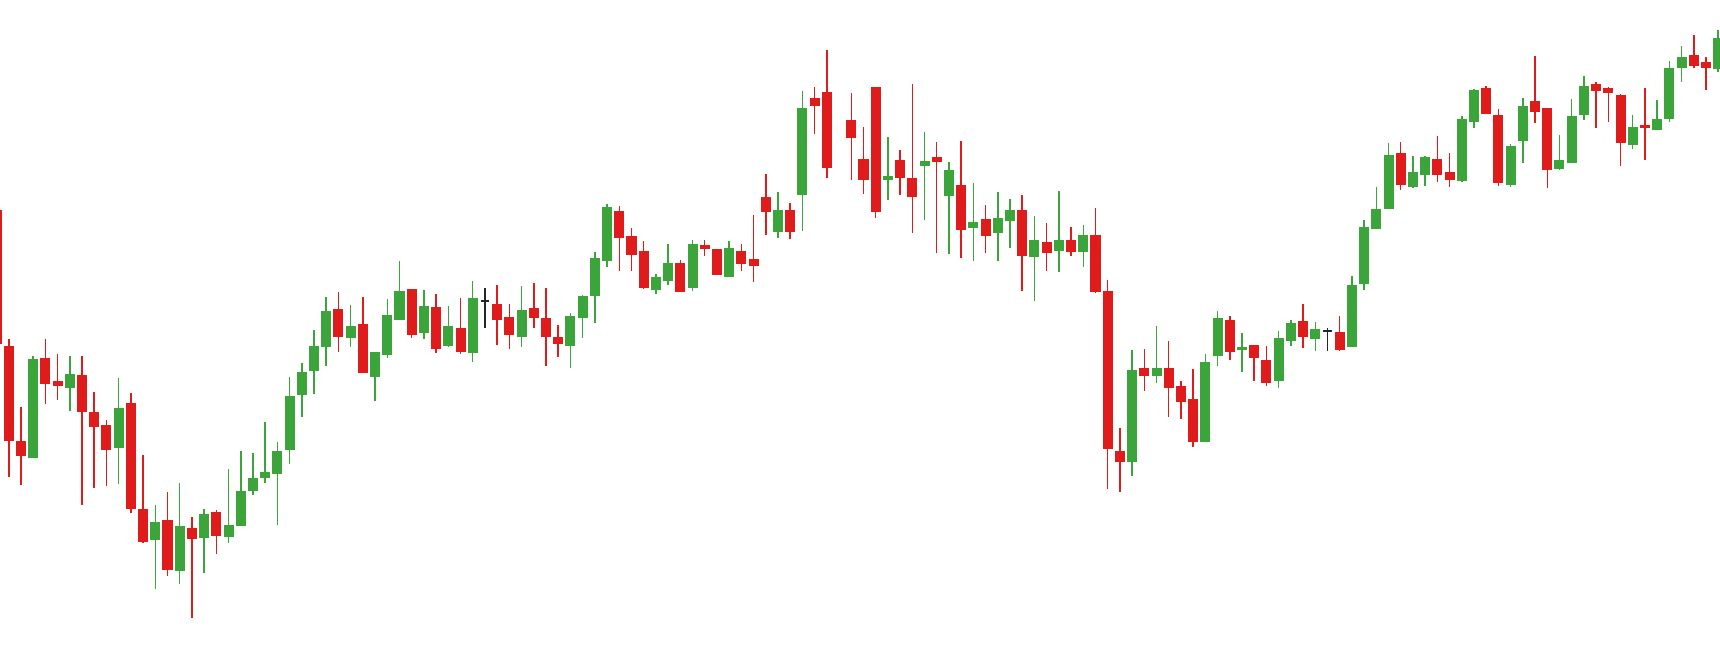buy: (464, 295, 576, 369)
